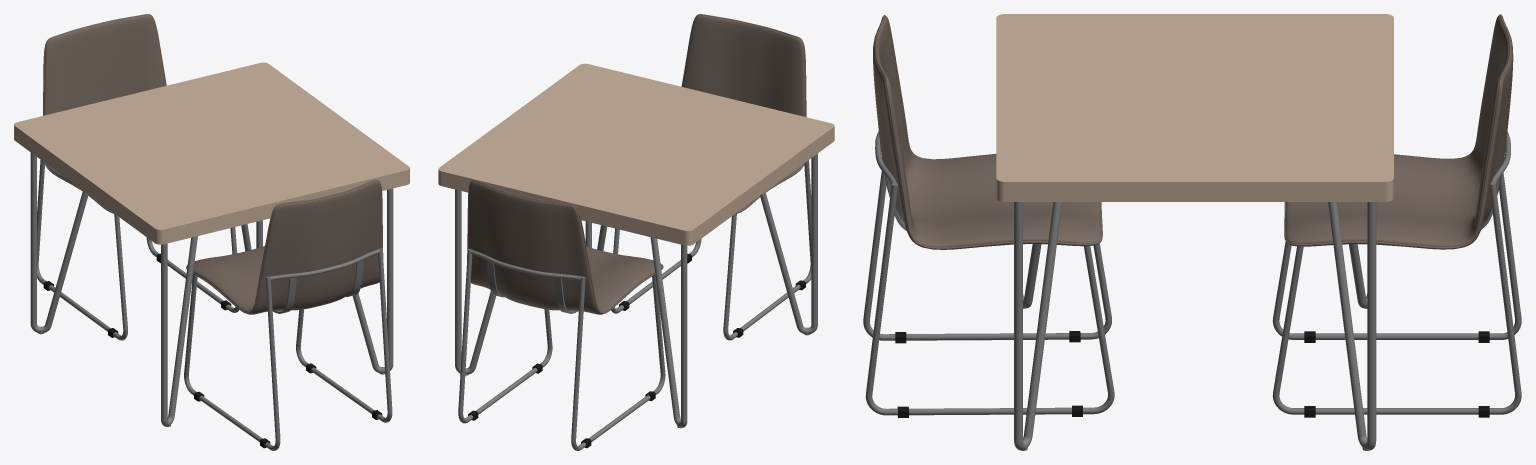
The model's file is 559_ダイニングテーブルセット2人掛け.glb.
3 renders of one model, left to right at view 1: azimuth 30°, elevation 25°; view 2: azimuth 150°, elevation 25°; view 3: azimuth 270°, elevation 25°, orthographic. The views are drawn at different scales.
Parts seen in each view (by area): view 1: Body, chair2, chair1; view 2: Body, chair1, chair2; view 3: Body, chair2, chair1.
Boxes of the visible parts, box(x1,y1,x2,y2) form: Body: box(14, 62, 409, 426); chair2: box(184, 179, 392, 450); chair1: box(37, 14, 238, 340); Body: box(438, 63, 834, 428); chair1: box(458, 180, 665, 450); chair2: box(611, 14, 811, 340); Body: box(996, 14, 1393, 450); chair2: box(863, 15, 1114, 418); chair1: box(1272, 14, 1521, 417).
Bounding box in the file's own units: 0.9 × 0.8286 × 1.49.
